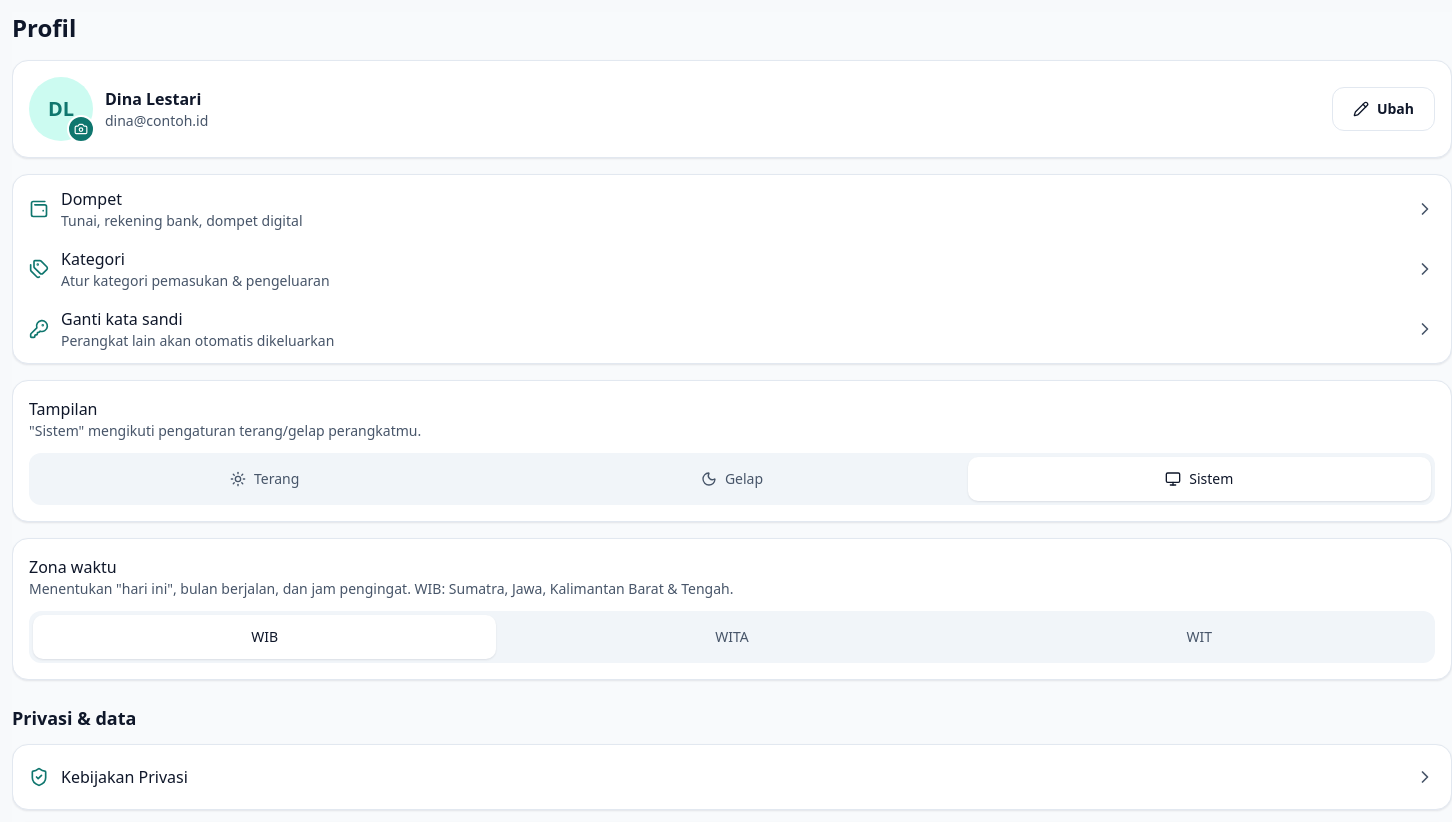
ProfilePage › zona waktu bawaan WIB dan bisa diganti
The image size is (1452, 822).
Check: the radio button labelled "WIB" is checked, box [33,615,496,659]
Click the radio button labelled "WIT".
click(1199, 636)  # box [1186,627,1212,646]
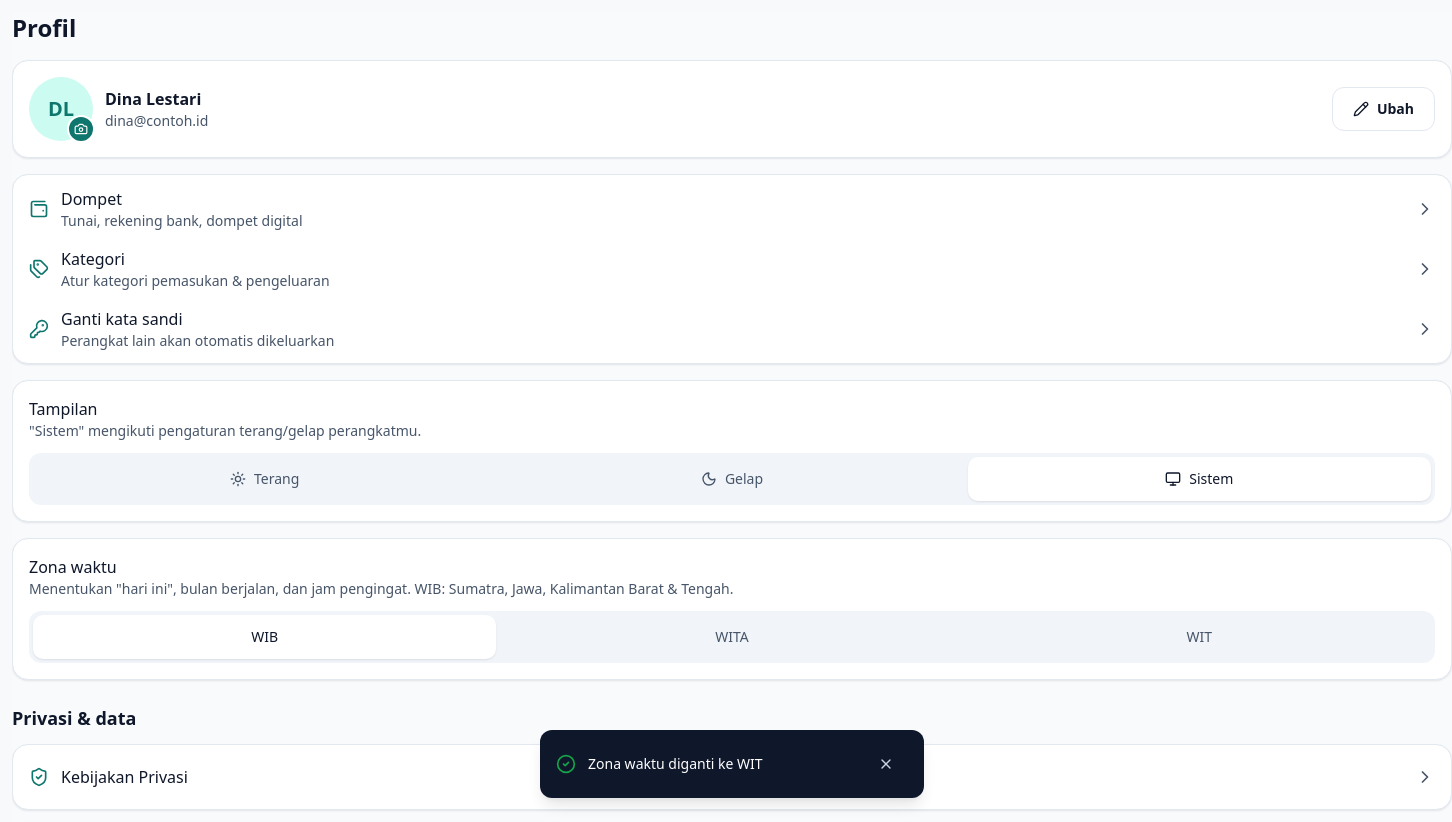
Check: the text "Zona waktu diganti ke WIT" is shown, box [588,754,762,773]
